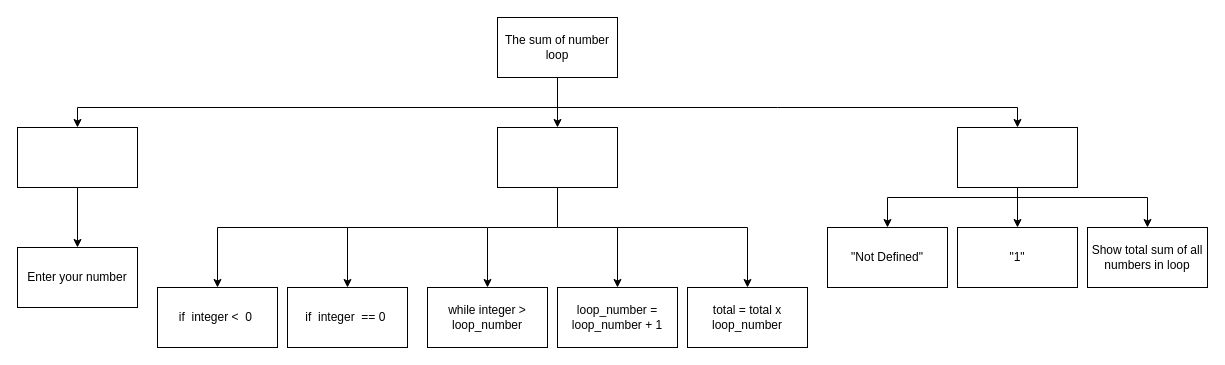
Some shapes in this 1225 by 365 pixel diagram are drawn without their labels. The shapes that lost their labels are listed below. From the top down, each one's centre as x and y in pixels, then its label:
point 77,157: Input
point 557,157: Process
point 1017,157: Output
